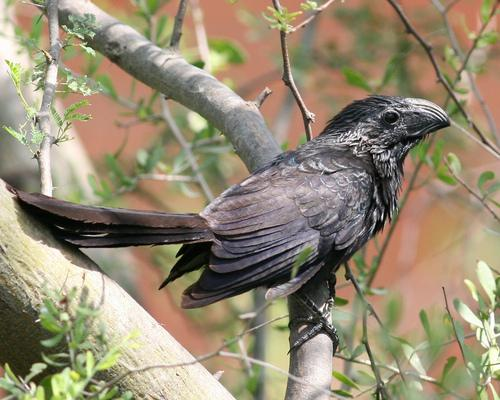004.Groove_billed_Ani: (13, 93, 456, 354)
